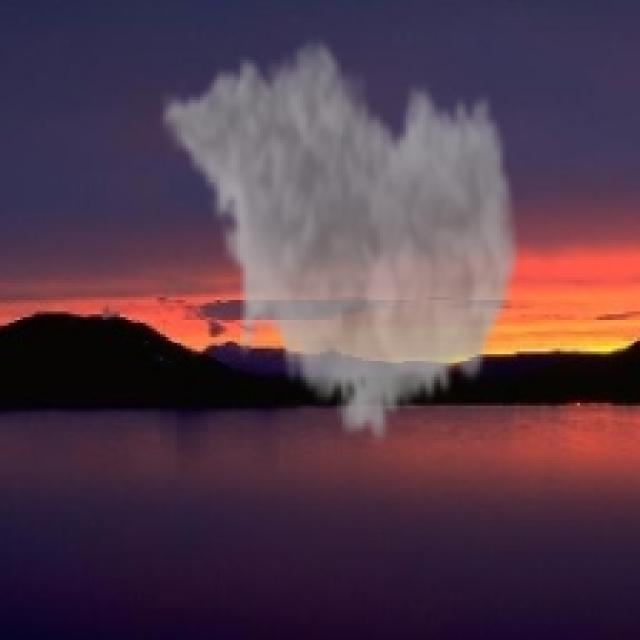smoke: (157, 29, 523, 452)
